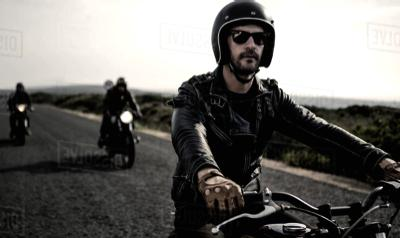With Helmet: (202, 1, 282, 81)
